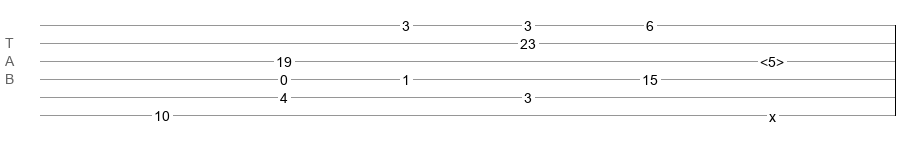0: (280, 72, 288, 82)
1: (402, 72, 410, 82)
10: (154, 108, 170, 118)
15: (642, 72, 658, 82)
19: (276, 54, 292, 64)
23: (520, 36, 536, 46)
3: (402, 18, 410, 28), (524, 90, 532, 100), (524, 18, 532, 28)
4: (280, 90, 288, 100)
6: (646, 18, 654, 28)
harmonic: (760, 54, 784, 64)
x: (769, 109, 776, 117)
